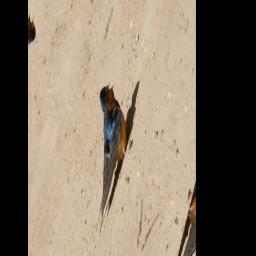Swallow: (70, 76, 137, 236)
